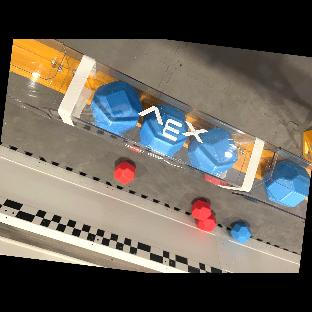V5_BLUE: (230, 222, 252, 243)
V5_RED: (111, 159, 140, 185), (188, 198, 215, 221), (197, 215, 218, 231)
blueingoal: (84, 81, 147, 135), (257, 158, 312, 212), (186, 125, 244, 176), (136, 104, 191, 154)
